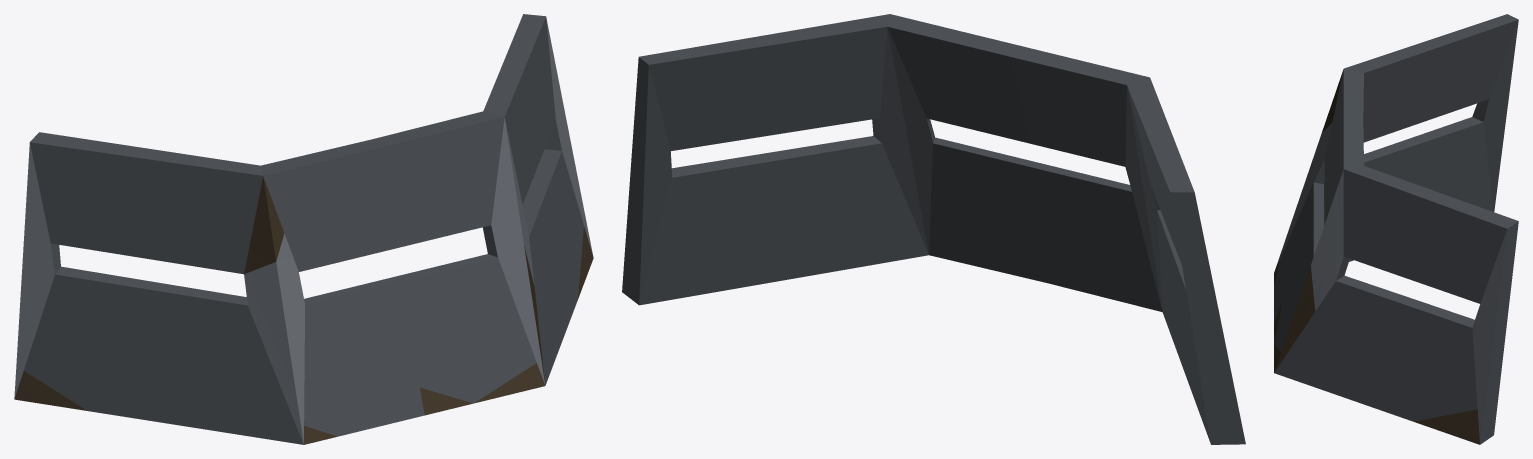
Rendered from mesh_shield.fbx.
3 renders of one model, left to right at view 1: azimuth 30°, elevation 25°; view 2: azimuth 150°, elevation 25°; view 3: azimuth 270°, elevation 25°, orthographic. The views are drawn at different scales.
Visible parts, largest first — view 1: turret_shield; view 2: turret_shield; view 3: turret_shield.
Boxes of the visible parts, bbox=[...] form: turret_shield: bbox=[14, 14, 593, 444]; turret_shield: bbox=[622, 14, 1245, 444]; turret_shield: bbox=[1274, 14, 1518, 444].
Bounding box in the file's own units: 3.36 × 1.34 × 1.44.
